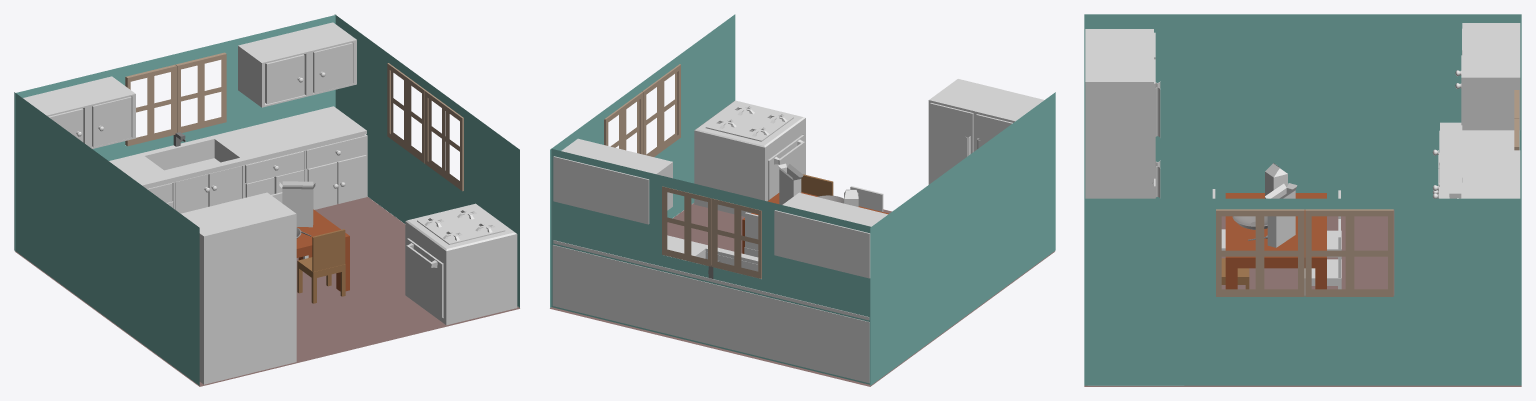
Rendered from kitchen2.fbx.
3 views of the same model, side by side, from view 1: azimuth 30°, elevation 25°; view 2: azimuth 150°, elevation 25°; view 3: azimuth 270°, elevation 25° (orthographic). The views are drawn at different scales.
Parts seen in each view (by area): view 1: wall3, counter, refrigiraotor, wall1, floor, stove, wall2, window.001, window, chair3, desk, cereal box; view 2: counter, wall3, wall2, stove, wall1, refrigiraotor, window, window.001, floor, cereal box, chair3, chair1 (+1 smaller); view 3: wall1, wall3, refrigiraotor, counter, window.001, floor, desk, cereal box, chair1, milk carton, chair3.
Part boxes in pixels (bbox=[...]): wall3: bbox=[14, 92, 199, 385]; counter: bbox=[23, 22, 367, 213]; refrigiraotor: bbox=[181, 192, 296, 384]; wall1: bbox=[334, 14, 519, 307]; floor: bbox=[15, 196, 519, 386]; stove: bbox=[405, 203, 517, 325]; wall2: bbox=[15, 15, 335, 250]; window.001: bbox=[387, 63, 463, 191]; window: bbox=[125, 52, 226, 146]; chair3: bbox=[297, 229, 345, 303]; desk: bbox=[296, 209, 349, 291]; cereal box: bbox=[279, 181, 315, 227]; counter: bbox=[552, 138, 887, 383]; wall3: bbox=[870, 92, 1055, 385]; wall2: bbox=[551, 148, 870, 384]; stove: bbox=[694, 100, 805, 216]; wall1: bbox=[550, 14, 735, 307]; refrigiraotor: bbox=[928, 79, 1044, 184]; window: bbox=[662, 186, 761, 278]; window.001: bbox=[604, 64, 680, 156]; floor: bbox=[550, 203, 1054, 386]; cereal box: bbox=[778, 163, 803, 204]; chair3: bbox=[801, 174, 833, 196]; chair1: bbox=[744, 212, 758, 257]; wall1: bbox=[1084, 198, 1521, 385]; wall3: bbox=[1084, 14, 1521, 198]; refrigiraotor: bbox=[1085, 29, 1160, 198]; counter: bbox=[1432, 23, 1520, 198]; window.001: bbox=[1216, 209, 1393, 296]; floor: bbox=[1084, 210, 1521, 386]; desk: bbox=[1225, 193, 1326, 289]; cereal box: bbox=[1265, 183, 1297, 247]; chair1: bbox=[1304, 219, 1341, 295]; milk carton: bbox=[1265, 163, 1287, 198]; chair3: bbox=[1221, 258, 1249, 289].
Bounding box in the file's own units: 201 × 94.85 × 200.
